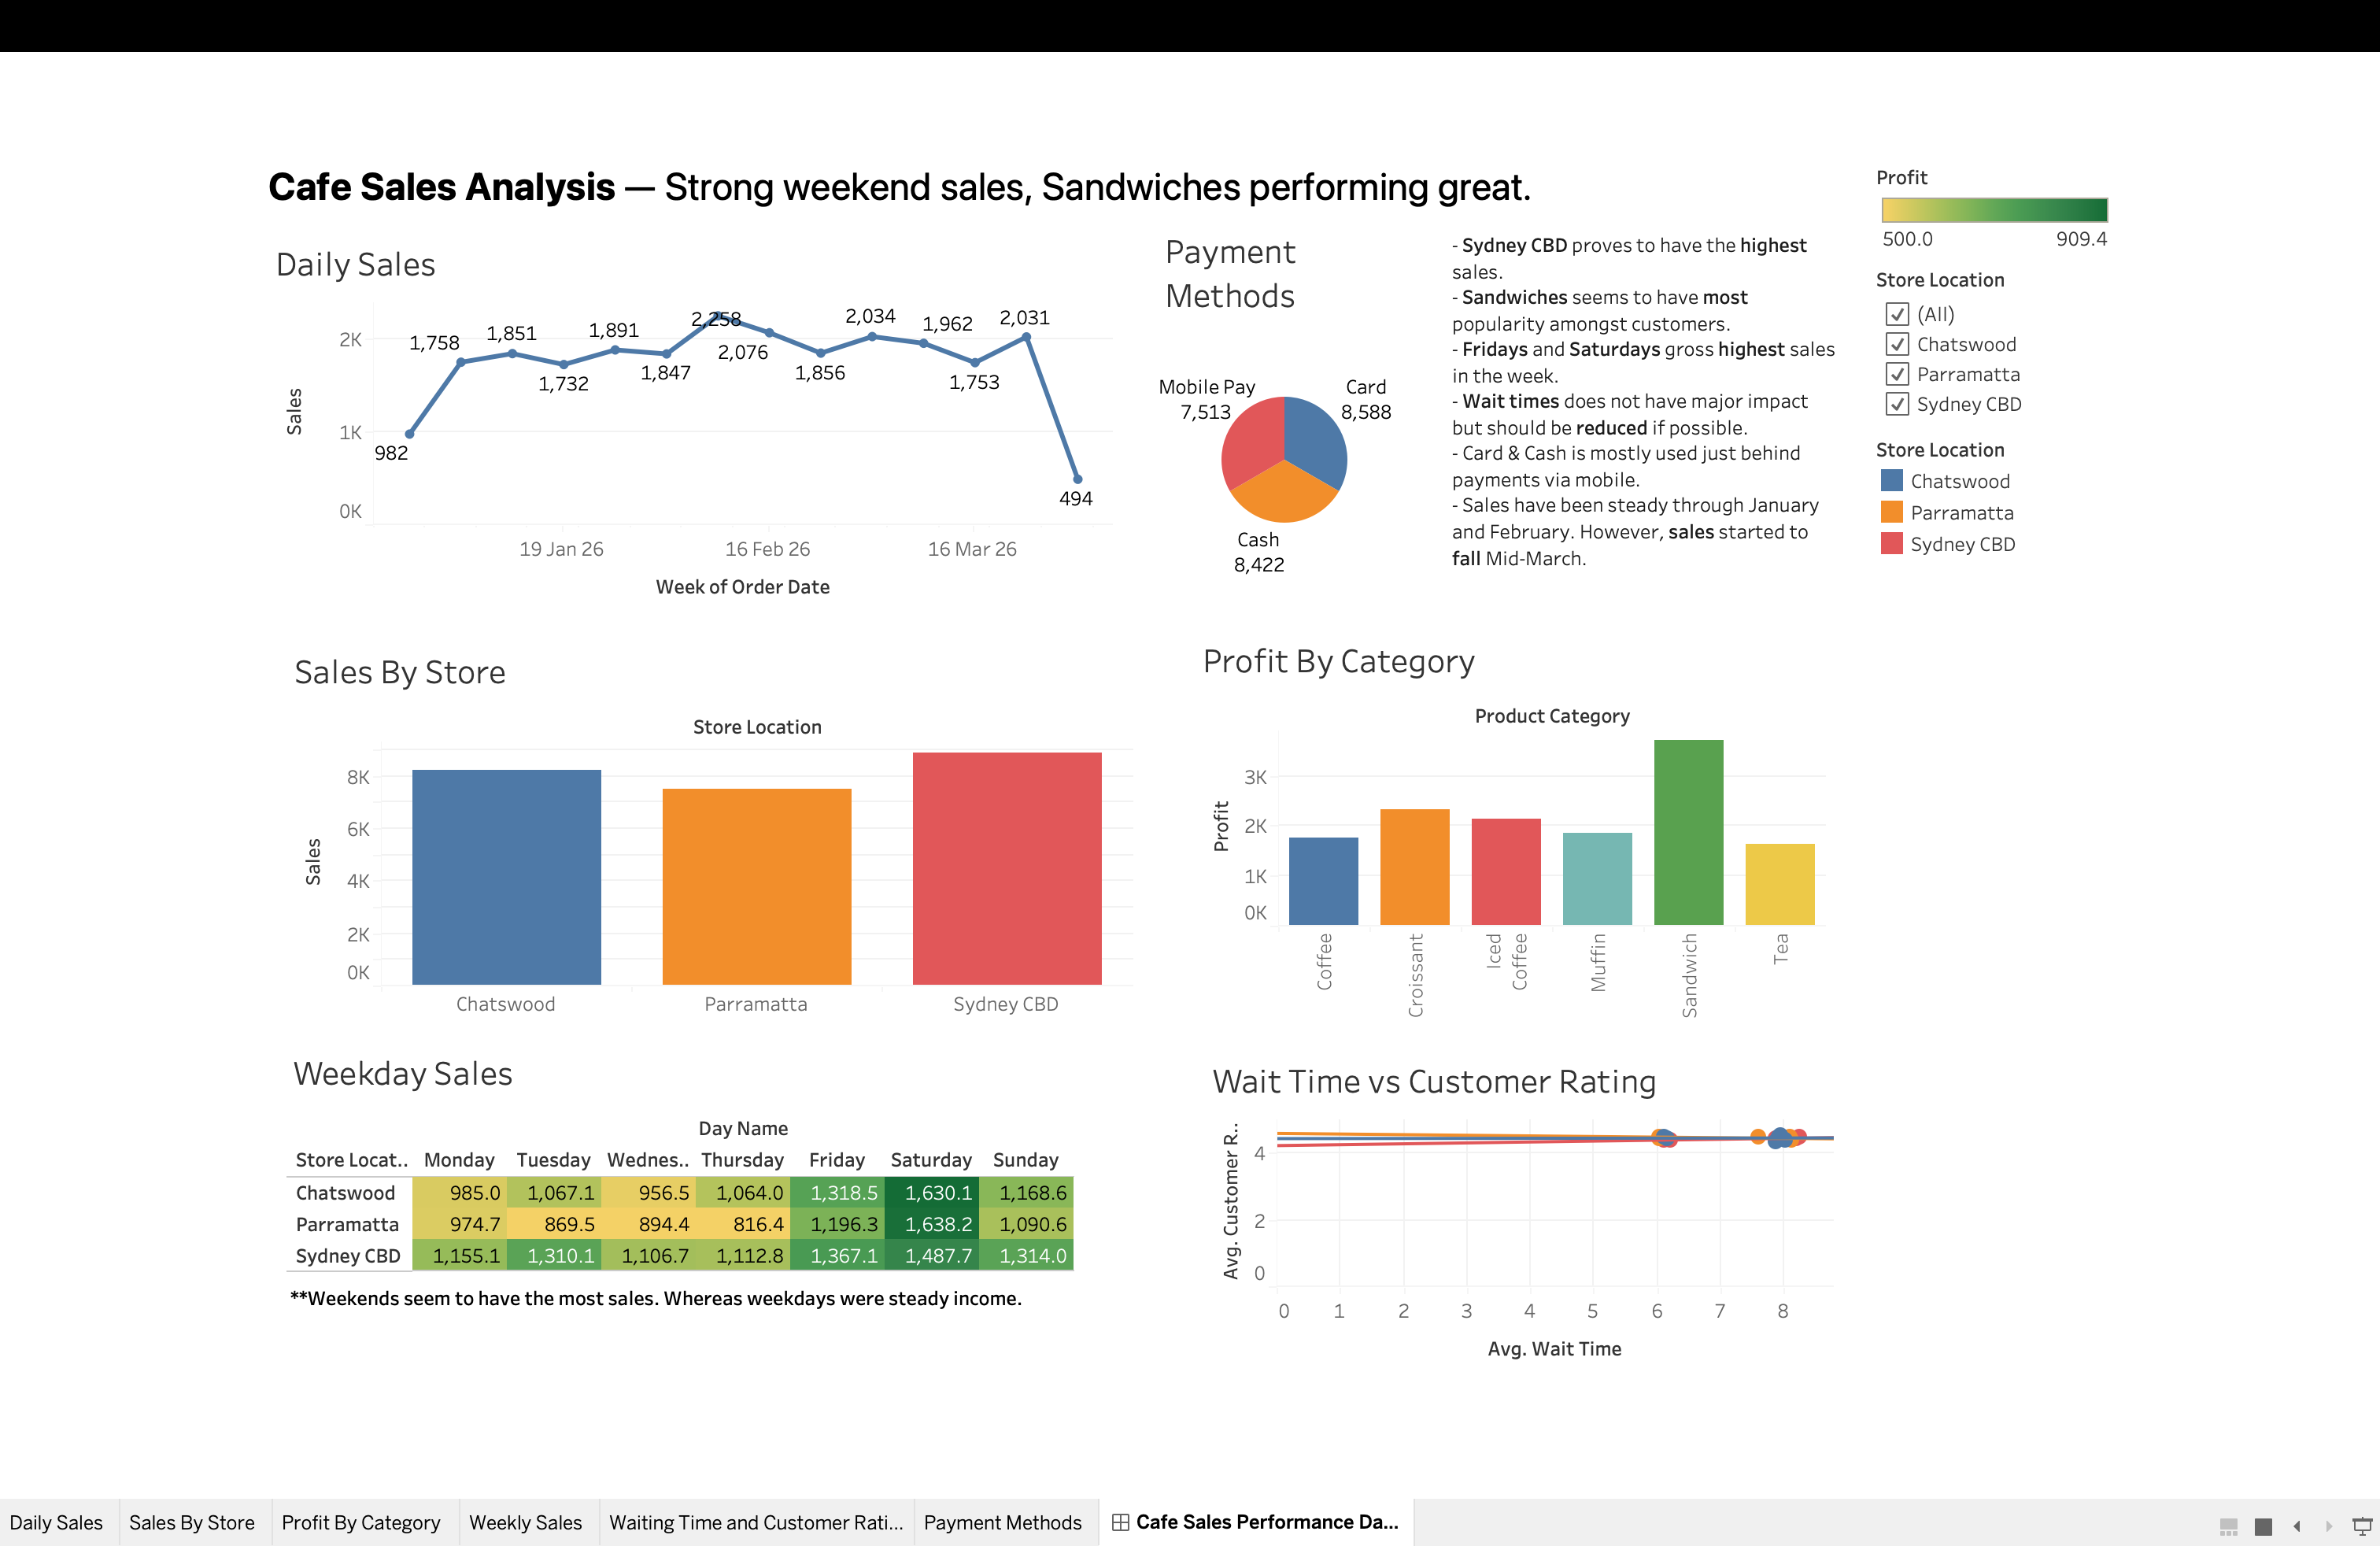

This screenshot's page, from the dashboard's own definition file:
{"tool":"tableau","page":{"name":"Cafe Sales Performance Dashboard","canvas":[1200,800],"ordinal":0},"visuals":[{"type":"title","box":[8,8,1024,37]},{"type":"legend","title":"Weekly Sales","param":"[federated.0q2v9fz08d8dub0zw0bto17navuo].[sum:profit:qk]","box":[1032,8,160,65]},{"type":"worksheet","title":"Payment Methods","mark":"Pie","box":[580,49,165,239]},{"type":"text","box":[760,51,259,229]},{"type":"worksheet","title":"Daily Sales","mark":"Line","rows":["sales"],"cols":["order_date"],"box":[11,53,544,247]},{"type":"filter","title":"Waiting Time and Customer Ratings","param":"[federated.0q2v9fz08d8dub0zw0bto17navuo].[none:store_location:nk]","box":[1032,73,160,108]},{"type":"legend","title":"Waiting Time and Customer Ratings","param":"[federated.0q2v9fz08d8dub0zw0bto17navuo].[none:store_location:nk]","box":[1032,181,160,86]},{"type":"worksheet","title":"Profit By Category","mark":"Automatic","rows":["profit"],"cols":["product_category"],"box":[604,309,400,247]},{"type":"worksheet","title":"Sales By Store","mark":"Automatic","rows":["sales"],"cols":["store_location"],"box":[23,312,545,247]},{"type":"worksheet","title":"Weekly Sales","mark":"Square","rows":["store_location"],"cols":["day_name"],"box":[22,567,550,153]},{"type":"worksheet","title":"Waiting Time and Customer Ratings","mark":"Circle","rows":["customer_rating"],"cols":["wait_time"],"box":[606,572,407,212]},{"type":"text","box":[22,720,550,25]}]}

Visuals, with their boxes on the page's 1200x800 design canvas (x1, y1, x2, y2). These are canvas units, not pixel positions in the 2380x1546 screenshot, which may show the page scaled, cropped or inside an application window:
title: x1=8 y1=8 x2=1032 y2=45
"Weekly Sales" legend: x1=1032 y1=8 x2=1192 y2=73
"Payment Methods" worksheet (Pie marks): x1=580 y1=49 x2=745 y2=288
text: x1=760 y1=51 x2=1019 y2=280
"Daily Sales" worksheet (Line marks): x1=11 y1=53 x2=555 y2=300
"Waiting Time and Customer Ratings" filter: x1=1032 y1=73 x2=1192 y2=181
"Waiting Time and Customer Ratings" legend: x1=1032 y1=181 x2=1192 y2=267
"Profit By Category" worksheet: x1=604 y1=309 x2=1004 y2=556
"Sales By Store" worksheet: x1=23 y1=312 x2=568 y2=559
"Weekly Sales" worksheet (Square marks): x1=22 y1=567 x2=572 y2=720
"Waiting Time and Customer Ratings" worksheet (Circle marks): x1=606 y1=572 x2=1013 y2=784
text: x1=22 y1=720 x2=572 y2=745
